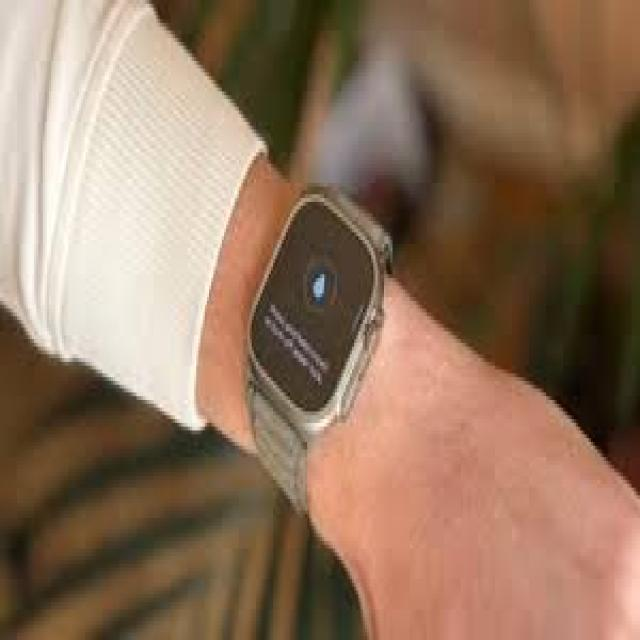objects: (240, 182, 386, 495)
